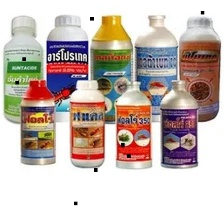insecticide: (87, 12, 136, 126), (131, 14, 182, 123), (42, 11, 91, 124), (0, 15, 45, 126), (176, 13, 221, 123), (157, 77, 200, 171), (112, 79, 153, 171), (17, 78, 58, 166), (67, 78, 105, 168)
